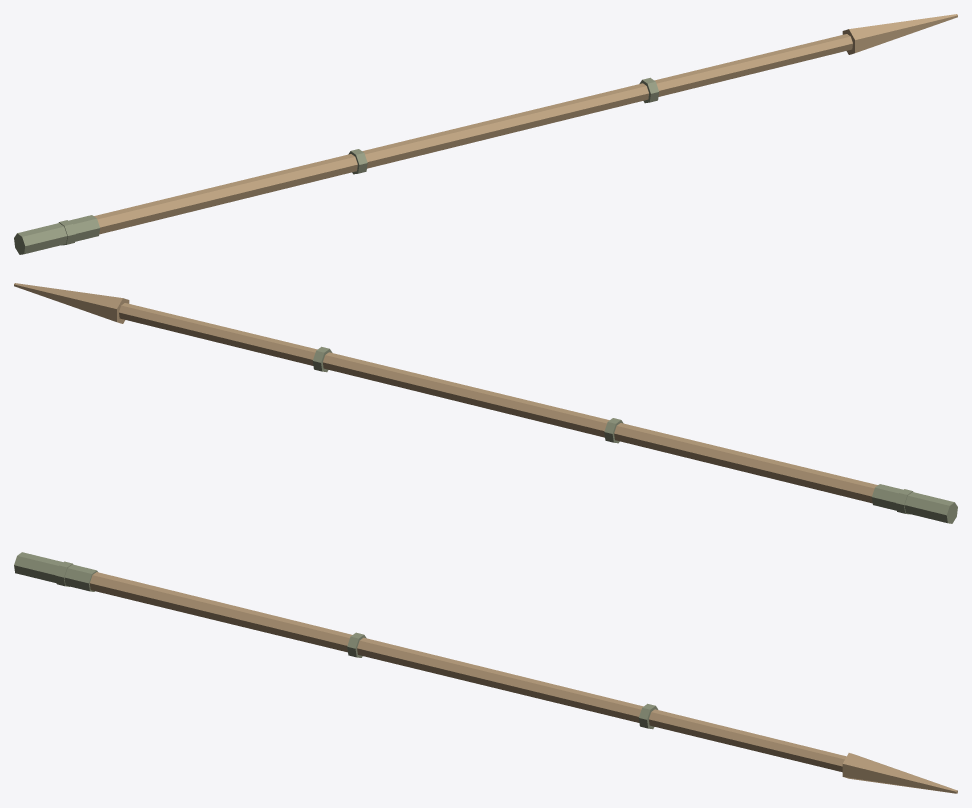
Rendered from wooden_spear.glb.
The picture shows the model from 3 angles, top to bottom: view 1: azimuth 30°, elevation 25°; view 2: azimuth 150°, elevation 25°; view 3: azimuth 330°, elevation 25°; orthographic projection.
Visible parts, largest first — view 1: wooden-spear; view 2: wooden-spear; view 3: wooden-spear.
Boxes of the visible parts, box(x1,y1,x2,y2) form: wooden-spear: box(14, 14, 957, 254); wooden-spear: box(14, 283, 957, 523); wooden-spear: box(14, 552, 957, 793).
Size of the model in its own units: 2.25 by 0.0599 by 0.0519.
